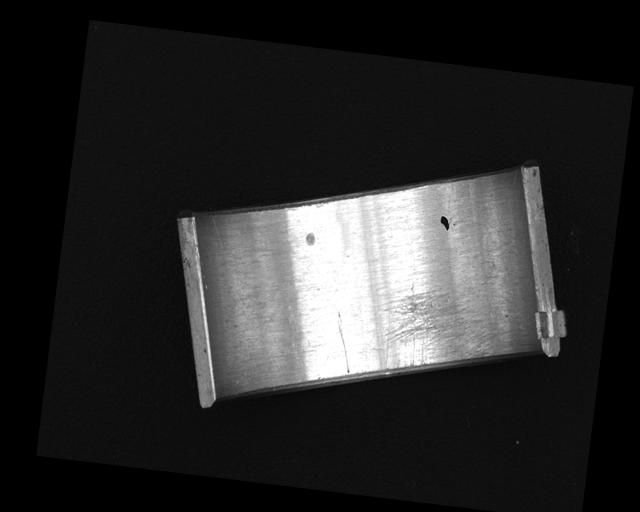blot: (439, 215, 451, 232)
bruise: (304, 232, 316, 246)
nick: (202, 215, 256, 305), (330, 311, 357, 374)
scratch: (373, 282, 498, 384)
